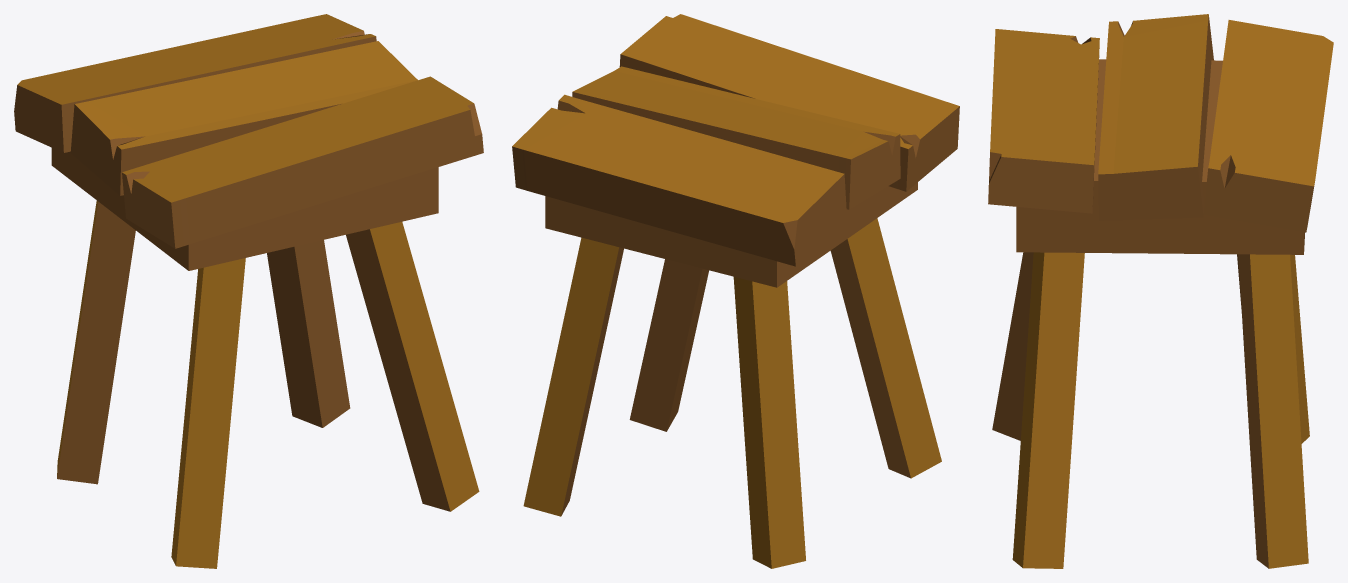
The model's file is banco_2.fbx.
The picture shows the model from 3 angles, left to right: view 1: azimuth 30°, elevation 25°; view 2: azimuth 150°, elevation 25°; view 3: azimuth 270°, elevation 25°; orthographic projection. The views are drawn at different scales.
Parts seen in each view (by area): view 1: banco_2; view 2: banco_2; view 3: banco_2.
Boxes of the visible parts, x1,y1,x2,y2 form: banco_2: (14,14,483,568); banco_2: (512,14,959,568); banco_2: (988,14,1333,568).
Bounding box in the file's own units: 51.06 × 62.61 × 47.08.
